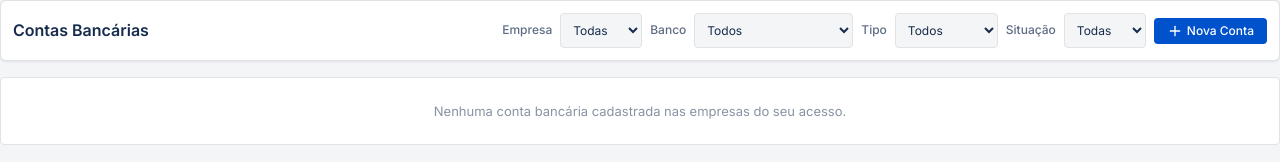
ContasBancarias › mostra o vazio conforme o filtro
Expected: the text "Nenhuma conta bancária cadastrada nas empresas do seu acesso." is shown, left=0, top=77, right=1279, bottom=145
Select "Aplicação" in the dropdown labelled "Tipo": (946, 30) left=895, top=13, right=998, bottom=48
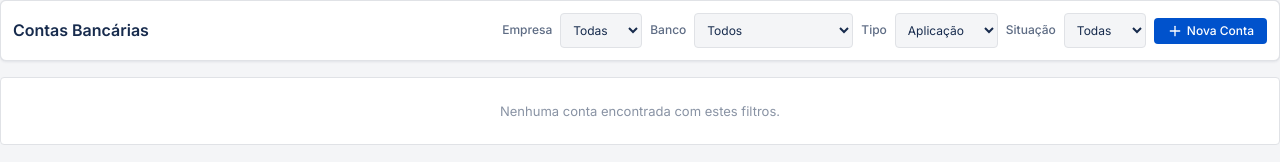
Now the text "Nenhuma conta encontrada com estes filtros." is shown, box left=0, top=77, right=1279, bottom=145
